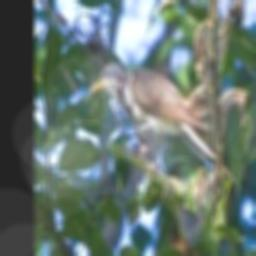Cuckoo: (91, 63, 238, 187)
